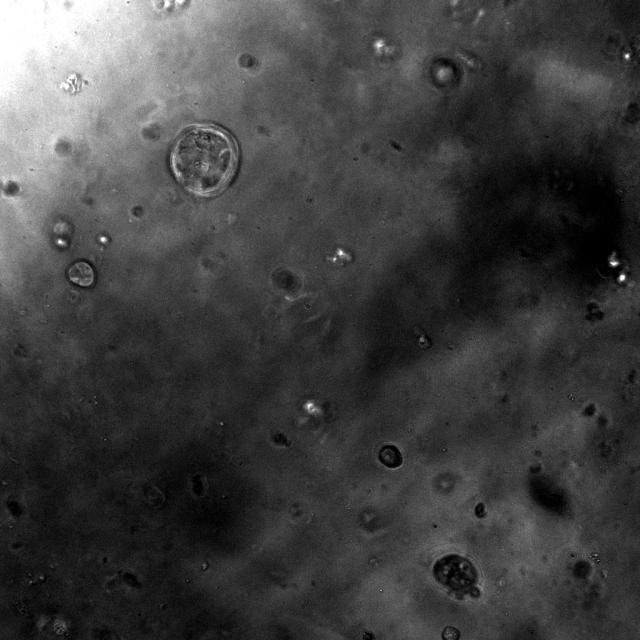organoid: (169, 122, 240, 197), (432, 553, 480, 603), (269, 266, 303, 299), (66, 260, 97, 288), (378, 444, 402, 468), (59, 72, 84, 94), (572, 560, 591, 579), (238, 52, 258, 68), (272, 431, 290, 446), (3, 180, 19, 196), (442, 626, 459, 639), (475, 502, 487, 518)
